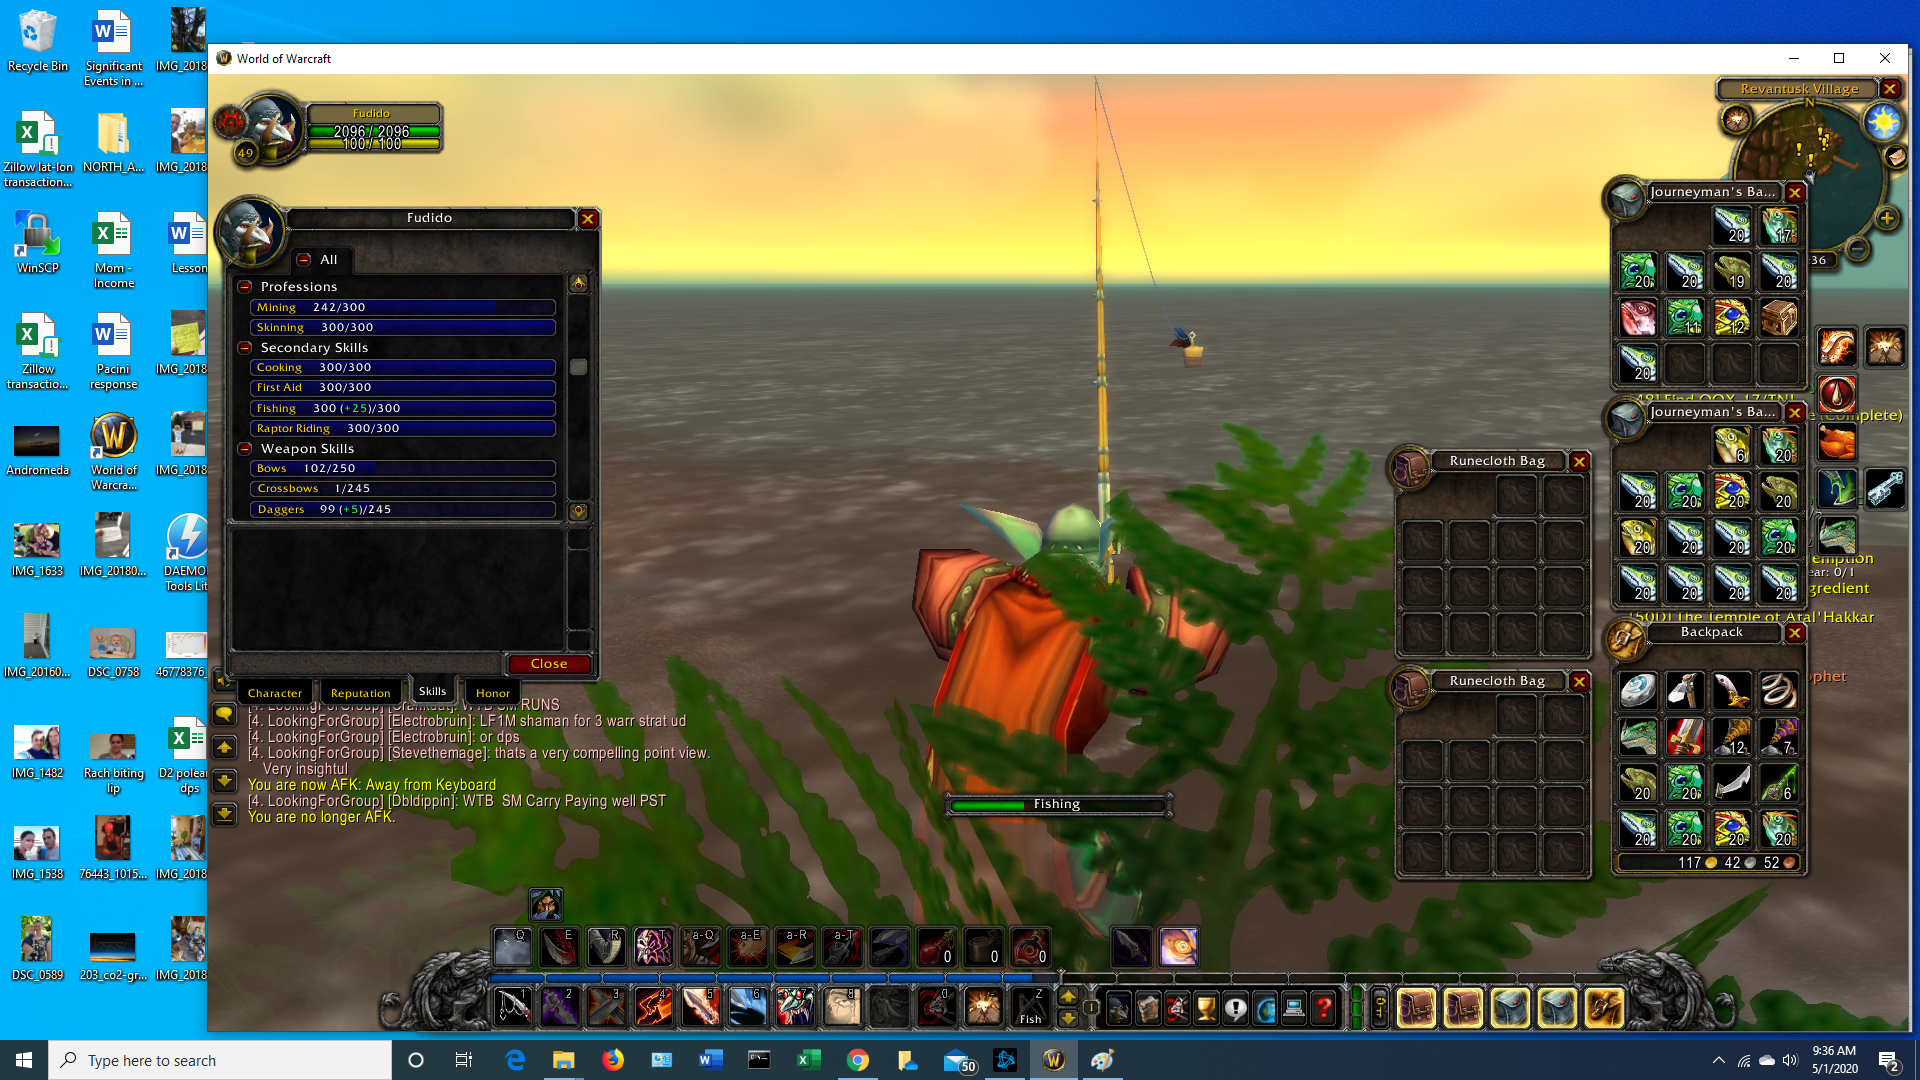bobble: (1167, 322, 1215, 376)
